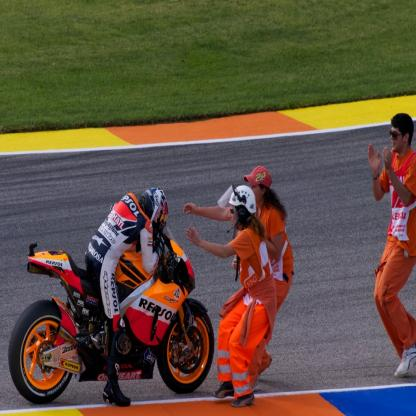Helmet: (216, 182, 257, 239), (140, 184, 169, 242)
